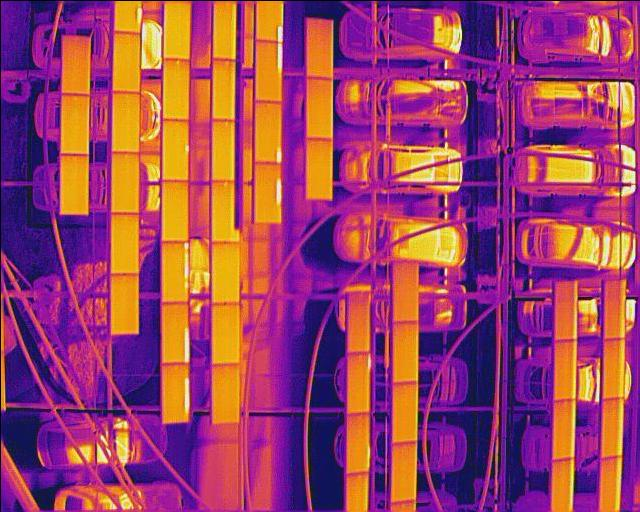Cell: (161, 120, 189, 179)
No-Anomaly: (212, 301, 240, 367), (59, 93, 89, 153), (60, 35, 90, 95), (111, 92, 140, 152), (110, 273, 138, 335), (305, 77, 332, 141), (111, 212, 139, 273), (59, 153, 87, 214), (305, 17, 333, 78), (393, 319, 418, 387), (160, 181, 188, 241), (212, 241, 238, 305), (305, 139, 333, 198), (111, 151, 138, 212), (212, 364, 239, 424), (390, 443, 417, 503), (163, 58, 189, 119), (114, 32, 140, 92), (210, 180, 235, 242), (393, 259, 417, 323), (210, 118, 235, 179), (211, 0, 236, 59), (553, 278, 576, 342), (552, 399, 575, 462), (599, 396, 622, 459), (394, 382, 417, 444), (346, 291, 370, 350), (211, 58, 234, 119), (347, 411, 369, 474), (554, 338, 575, 402), (347, 352, 369, 413), (602, 334, 623, 396), (552, 455, 574, 512), (599, 455, 620, 512), (604, 280, 624, 337)
Unclassified: (252, 101, 281, 163), (162, 362, 190, 422), (253, 41, 281, 101), (161, 303, 188, 365), (253, 163, 281, 222), (162, 241, 188, 301)
